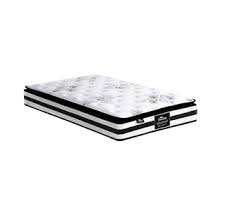bed-matress: (23, 73, 199, 141)
